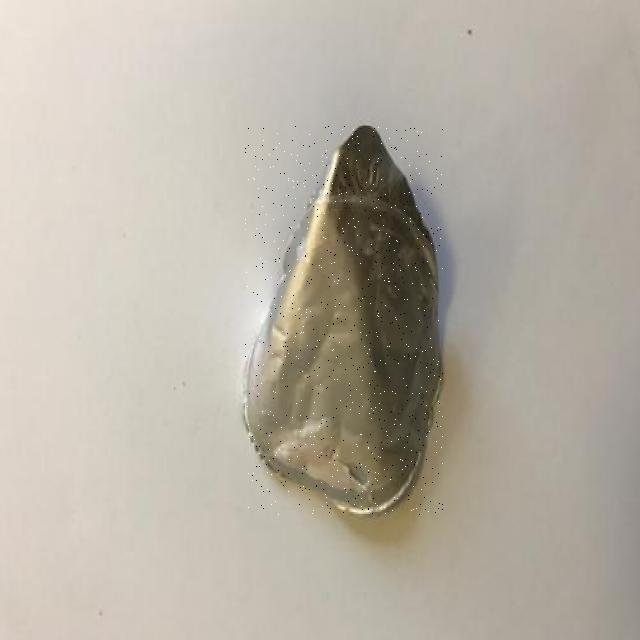metal: (245, 127, 443, 515)
